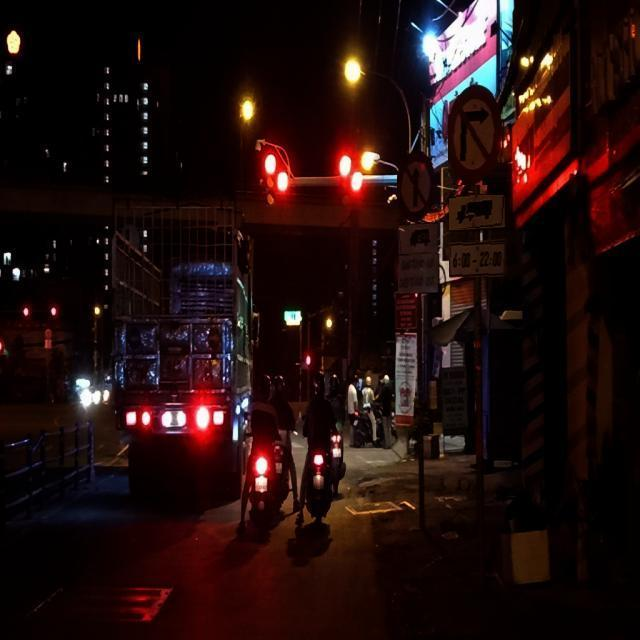123b-cam-re-phai: (445, 84, 503, 183)
136-cam-di-thang: (395, 152, 437, 220)
